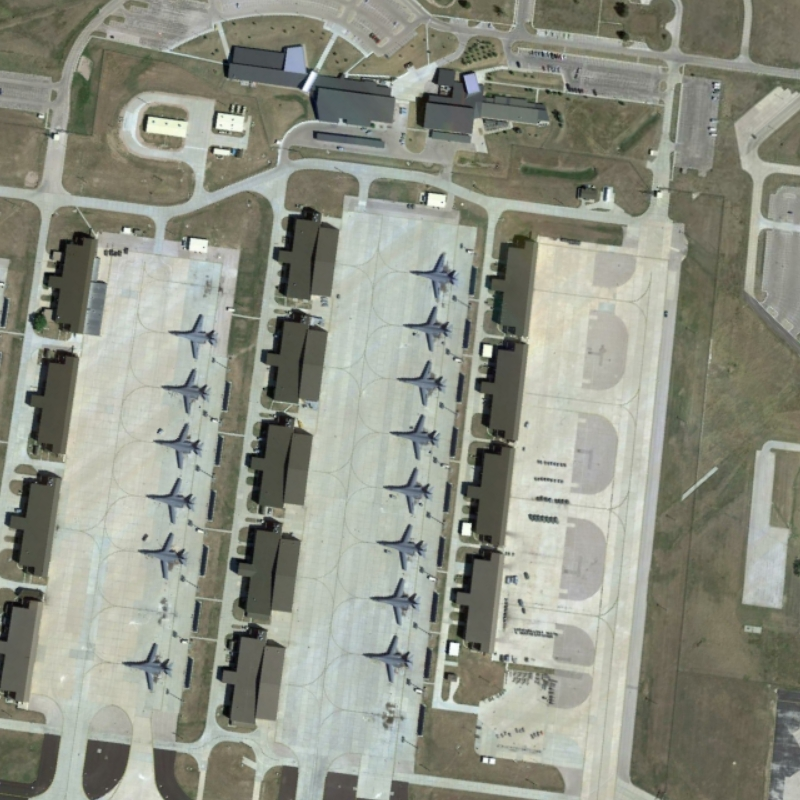A10: (399, 304, 456, 354), (368, 576, 422, 627), (380, 465, 435, 515), (363, 631, 414, 684), (136, 529, 189, 580), (374, 521, 427, 571), (151, 421, 205, 470), (165, 313, 220, 361), (408, 251, 459, 302), (120, 642, 172, 692), (394, 359, 447, 408), (159, 367, 213, 415), (387, 413, 442, 460), (145, 476, 198, 523)
